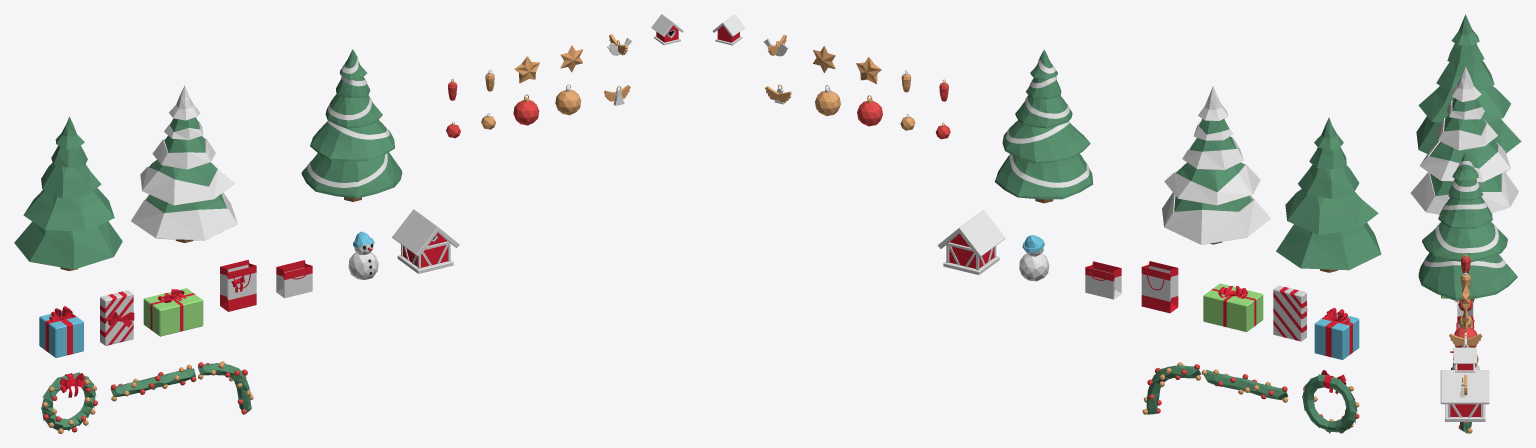
File: christmas-2019.fbx
3 views of the same model, side by side, from view 1: azimuth 30°, elevation 25°; view 2: azimuth 150°, elevation 25°; view 3: azimuth 270°, elevation 25° (orthographic). The views are drawn at different scales.
Visible parts, largest first — view 1: Pine-tree02, Pine-tree01, ChristmasTree, Cottage, present03, wreath, present01, present02, Giftbag01, Ornament-ribbon, girland01, Giftbag02 (+2 smaller); view 2: Pine-tree02, Pine-tree01, ChristmasTree, Cottage, present03, present01, wreath, Giftbag01, present02, Ornament-ribbon, girland01, Giftbag02 (+2 smaller); view 3: Pine-tree02, ChristmasTree, Pine-tree01, Cottage, Ornament-ribbon, Birdhouse, bird, ornament-03-red, star01, ornament-01-red, angel, ornament-01-gold (+2 smaller).
Boxes of the visible parts, <box> form: Pine-tree02: <box>131,85,237,242</box>; Pine-tree01: <box>14,116,122,270</box>; ChristmasTree: <box>301,49,402,201</box>; Cottage: <box>392,209,459,273</box>; present03: <box>143,288,203,336</box>; wreath: <box>41,372,97,433</box>; present01: <box>39,306,83,357</box>; present02: <box>100,290,134,345</box>; Giftbag01: <box>220,259,256,311</box>; Ornament-ribbon: <box>307,55,389,187</box>; girland01: <box>110,364,196,401</box>; Giftbag02: <box>276,260,312,297</box>; Pine-tree02: <box>1162,86,1270,244</box>; Pine-tree01: <box>1276,117,1381,272</box>; ChristmasTree: <box>994,50,1093,203</box>; Cottage: <box>937,210,1005,274</box>; present03: <box>1203,283,1263,332</box>; present01: <box>1314,307,1359,359</box>; wreath: <box>1302,370,1359,433</box>; Giftbag01: <box>1141,261,1178,313</box>; present02: <box>1273,285,1307,341</box>; Ornament-ribbon: <box>1006,56,1089,187</box>; girland01: <box>1201,369,1288,402</box>; Giftbag02: <box>1085,261,1121,299</box>; Pine-tree02: <box>1410,66,1518,214</box>; ChristmasTree: <box>1418,152,1517,300</box>; Pine-tree01: <box>1416,14,1521,153</box>; Cottage: <box>1440,370,1489,421</box>; Ornament-ribbon: <box>1423,161,1505,267</box>; Birdhouse: <box>1453,347,1476,372</box>; bird: <box>1449,332,1482,347</box>; ornament-03-red: <box>1454,325,1477,347</box>; star01: <box>1462,284,1469,309</box>; ornament-01-red: <box>1460,252,1470,273</box>; angel: <box>1460,375,1467,397</box>; ornament-01-gold: <box>1460,270,1470,289</box>.
Bounding box in the file's own units: 13.63 × 6.82 × 2.04.
